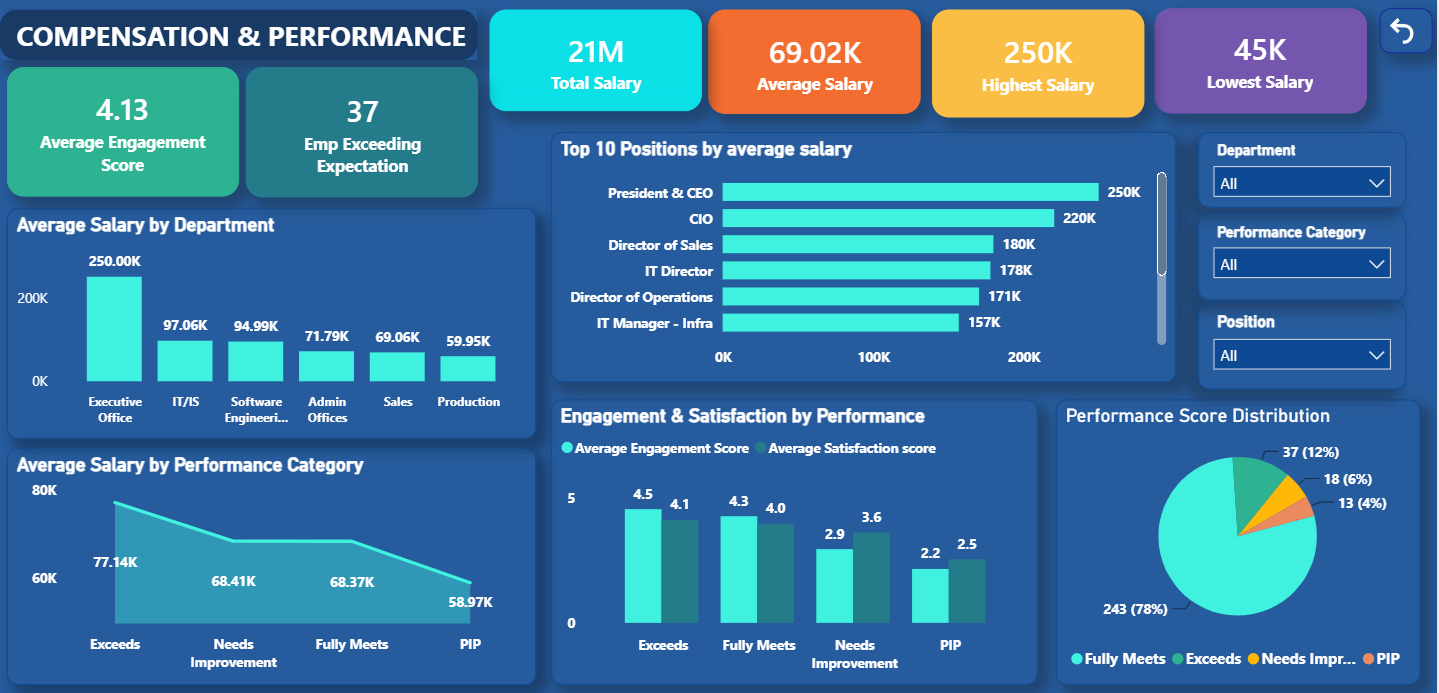

What the dashboard file says about the page in this screenshot:
{"tool":"powerbi","page":{"name":"Compensation & Performance","canvas":[1280,620],"ordinal":1},"visuals":[{"type":"shape","box":[2.5,11.2,425,45],"z":0},{"type":"cardVisual","fields":{"Data":["hr_analytics fact_employee.Lowest Salary"]},"box":[1028.8,10,188.8,93.8],"z":1000},{"type":"cardVisual","fields":{"Data":["hr_analytics fact_employee.Average Salary"]},"box":[632.5,11.2,188.8,92.5],"z":2000},{"type":"cardVisual","fields":{"Data":["hr_analytics fact_employee.Highest Salary"]},"box":[831,11,189,96],"z":3000},{"type":"cardVisual","fields":{"Data":["hr_analytics fact_employee.Avg Engagement Score"]},"box":[8.8,62.5,206.2,115],"z":4000},{"type":"cardVisual","fields":{"Data":["hr_analytics fact_employee.Total Salary"]},"box":[437.5,11.2,188.8,90],"z":5000},{"type":"cardVisual","fields":{"Data":["hr_analytics fact_employee.Emp Exceeding Expectation"]},"box":[221.2,62.5,206.2,116.2],"z":6000},{"type":"columnChart","fields":{"Y":["hr_analytics fact_employee.Average Salary"],"Category":["hr_analytics dim_department.Department"]},"box":[8.8,187.5,470,205],"z":7000},{"type":"stackedAreaChart","title":"Average Salary by Performance Category","fields":{"Category":["hr_analytics dim_performance.PerformanceScore"],"Y":["hr_analytics fact_employee.Average Salary"]},"box":[8.8,401.2,470,210],"z":8000},{"type":"pieChart","title":"Performance Score Distribution","fields":{"Category":["hr_analytics dim_performance.PerformanceScore"],"Y":["CountNonNull(hr_analytics fact_employee.EmpID)"]},"box":[941.2,357.5,323.8,253.8],"z":9000},{"type":"clusteredColumnChart","title":"Engagement & Satisfaction by Performance","fields":{"Category":["hr_analytics dim_performance.PerformanceScore"],"Y":["hr_analytics fact_employee.Avg Engagement Score","hr_analytics fact_employee.Average Satisfaction score"]},"box":[492.5,357.5,432.5,253.8],"z":10000},{"type":"clusteredBarChart","title":"Top 10 Positions by average salary","fields":{"Category":["hr_analytics dim_position.Position"],"Y":["hr_analytics fact_employee.Average Salary"]},"box":[492.5,120,556.2,222.5],"z":11000},{"type":"slicer","fields":{"Values":["hr_analytics dim_department.Department"]},"box":[1067.5,120,185,67.5],"z":12000},{"type":"slicer","fields":{"Values":["hr_analytics dim_performance.PerformanceScore"]},"box":[1067.5,192.5,185,77.5],"z":13000},{"type":"slicer","fields":{"Values":["hr_analytics dim_position.Position"]},"box":[1067.5,271.2,185,77.5],"z":14000},{"type":"actionButton","box":[1228.6,10,47.1,40],"z":15000}]}

Visuals, with their boxes in screenshot pixels (x1, y1, x2, y2), scaled from the page's 1280x620 canvas onto the 1439x693 screenshot:
shape: [left=3, top=13, right=481, bottom=63]
cardVisual - hr_analytics fact_employee.Lowest Salary: [left=1157, top=11, right=1369, bottom=116]
cardVisual - hr_analytics fact_employee.Average Salary: [left=711, top=13, right=923, bottom=116]
cardVisual - hr_analytics fact_employee.Highest Salary: [left=934, top=12, right=1147, bottom=120]
cardVisual - hr_analytics fact_employee.Avg Engagement Score: [left=10, top=70, right=242, bottom=198]
cardVisual - hr_analytics fact_employee.Total Salary: [left=492, top=13, right=704, bottom=113]
cardVisual - hr_analytics fact_employee.Emp Exceeding Expectation: [left=249, top=70, right=480, bottom=200]
columnChart - hr_analytics fact_employee.Average Salary x hr_analytics dim_department.Department: [left=10, top=210, right=538, bottom=439]
"Average Salary by Performance Category" stackedAreaChart: [left=10, top=448, right=538, bottom=683]
"Performance Score Distribution" pieChart: [left=1058, top=400, right=1422, bottom=683]
"Engagement & Satisfaction by Performance" clusteredColumnChart: [left=554, top=400, right=1040, bottom=683]
"Top 10 Positions by average salary" clusteredBarChart: [left=554, top=134, right=1179, bottom=383]
slicer - hr_analytics dim_department.Department: [left=1200, top=134, right=1408, bottom=210]
slicer - hr_analytics dim_performance.PerformanceScore: [left=1200, top=215, right=1408, bottom=302]
slicer - hr_analytics dim_position.Position: [left=1200, top=303, right=1408, bottom=390]
actionButton: [left=1381, top=11, right=1434, bottom=56]
